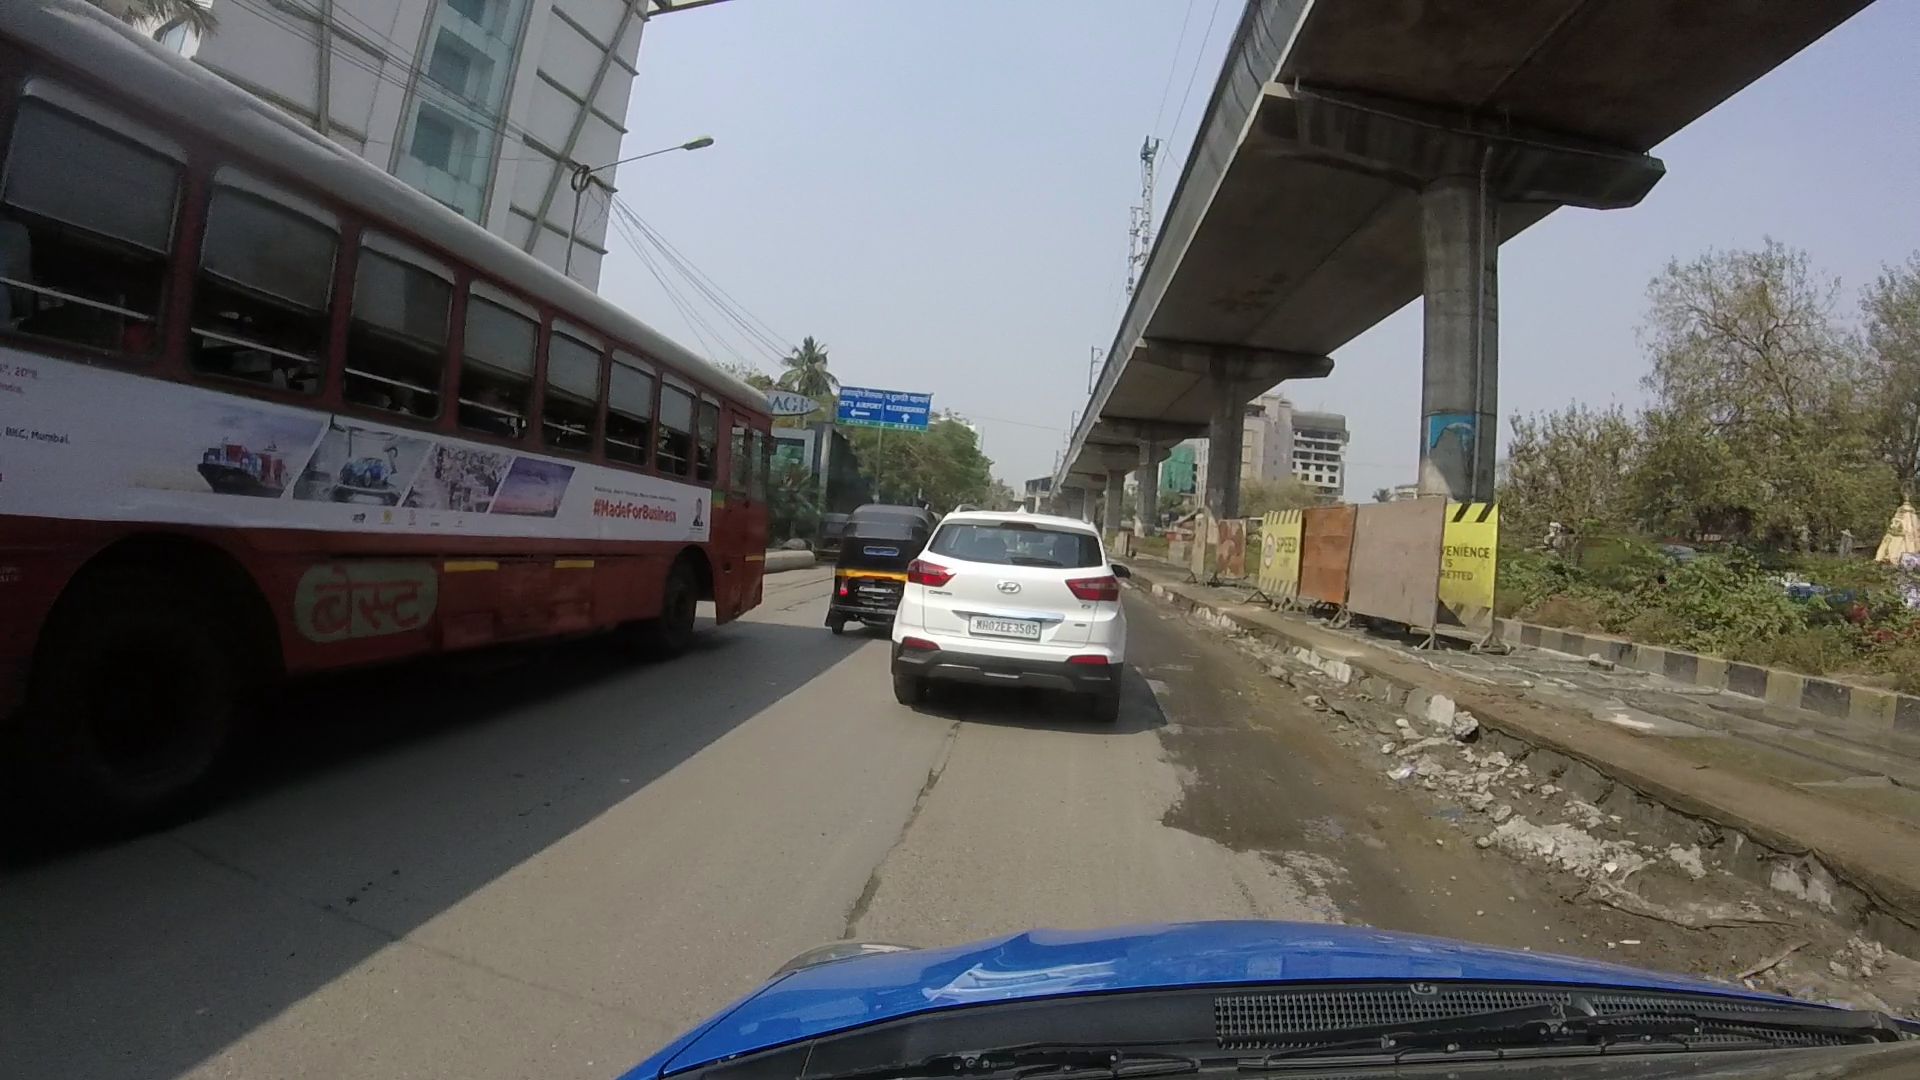bus: (12, 11, 795, 851)
car: (886, 510, 1164, 707)
rickshaw: (804, 460, 948, 642)
